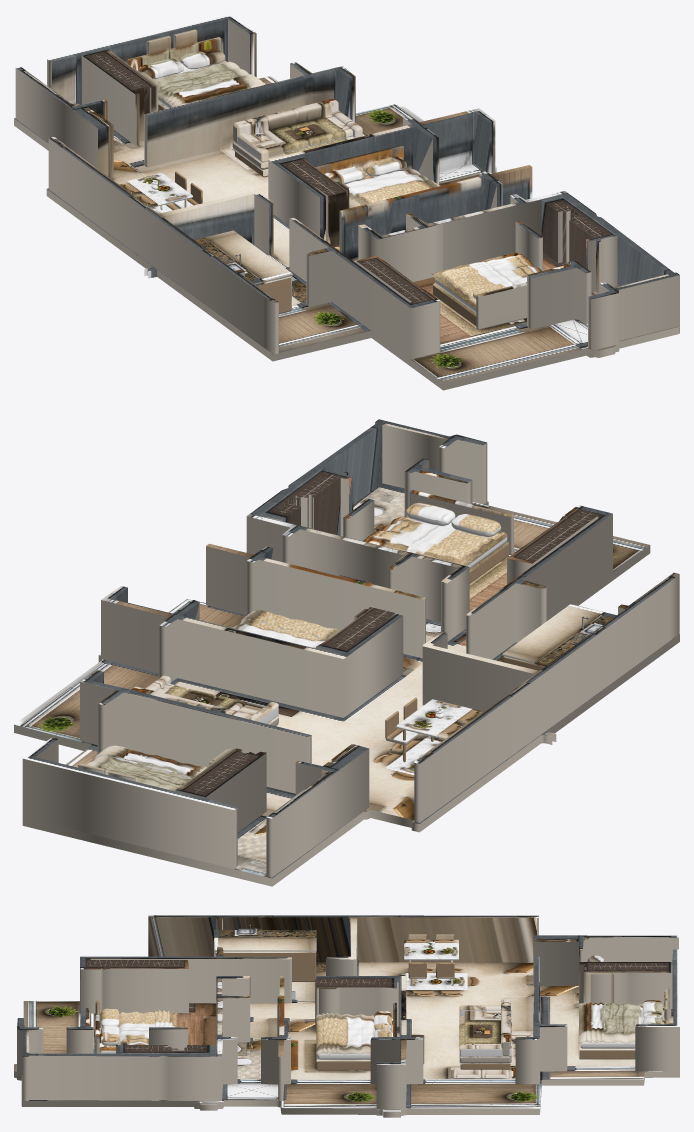
Rendered from p8-06-u06-2112-image-model.glb.
The picture shows the model from 3 angles, top to bottom: view 1: azimuth 30°, elevation 25°; view 2: azimuth 150°, elevation 25°; view 3: azimuth 270°, elevation 25°; orthographic projection. The views are drawn at different scales.
Parts seen in each view (by area): view 1: Partition walls, Apartment floor, Stone worktop, Draped bed linen, Upholstered headboard.002, Sofa back, Draped bed linen.004, Marble dining top, Draped bed linen.002, Draped bed linen.001, Draped bed linen.005, Upholstered headboard (+10 smaller); view 2: Partition walls, Apartment floor, Stone worktop, Draped bed linen.004, Marble dining top, Draped bed linen, Upholstered headboard.002, Draped bed linen.001, Draped bed linen.005, Draped bed linen.002, Draped bed linen.003, Tailored pillow.005 (+1 smaller); view 3: Partition walls, Apartment floor, Stone worktop, Draped bed linen, Draped bed linen.002, Kitchen cabinets, Draped bed linen.004, Marble dining top, Draped bed linen.001, Walnut upholstered base, Draped bed linen.003, Walnut upholstered base.001 (+13 smaller).
Boxes of the visible parts, box(x1,y1,x2,y2) form: Partition walls: box(15, 14, 679, 359); Apartment floor: box(14, 76, 679, 390); Stone worktop: box(194, 230, 292, 284); Draped bed linen: box(154, 61, 264, 106); Upholstered headboard.002: box(476, 282, 526, 329); Sofa back: box(233, 99, 338, 142); Draped bed linen.004: box(431, 256, 541, 299); Marble dining top: box(118, 172, 192, 207); Draped bed linen.002: box(344, 168, 428, 207); Draped bed linen.001: box(165, 74, 265, 106); Draped bed linen.005: box(435, 252, 531, 284); Upholstered headboard: box(127, 37, 221, 71); Partition walls: box(22, 419, 679, 877); Apartment floor: box(14, 483, 679, 886); Stone worktop: box(502, 604, 616, 666); Draped bed linen.004: box(365, 517, 496, 565); Marble dining top: box(396, 699, 482, 739); Draped bed linen: box(86, 746, 206, 791); Upholstered headboard.002: box(409, 490, 513, 555); Draped bed linen.001: box(95, 745, 205, 779); Draped bed linen.005: box(363, 531, 473, 565); Draped bed linen.002: box(232, 611, 340, 648); Draped bed linen.003: box(241, 610, 339, 639); Tailored pillow.005: box(405, 502, 455, 526); Partition walls: box(17, 915, 679, 1109); Apartment floor: box(14, 962, 679, 1117); Stone worktop: box(214, 930, 316, 951); Draped bed linen: box(579, 1003, 643, 1043); Draped bed linen.002: box(316, 1014, 374, 1054); Kitchen cabinets: box(214, 951, 316, 981); Draped bed linen.004: box(119, 1011, 179, 1044); Marble dining top: box(404, 939, 458, 960); Draped bed linen.001: box(585, 1001, 605, 1042); Walnut upholstered base: box(579, 1043, 635, 1059); Draped bed linen.003: box(322, 1013, 340, 1053); Walnut upholstered base.001: box(316, 1054, 370, 1070).
Bounding box in the file's own units: 8.59 × 1.3 × 15.53.
13 materials, 3 textured.
